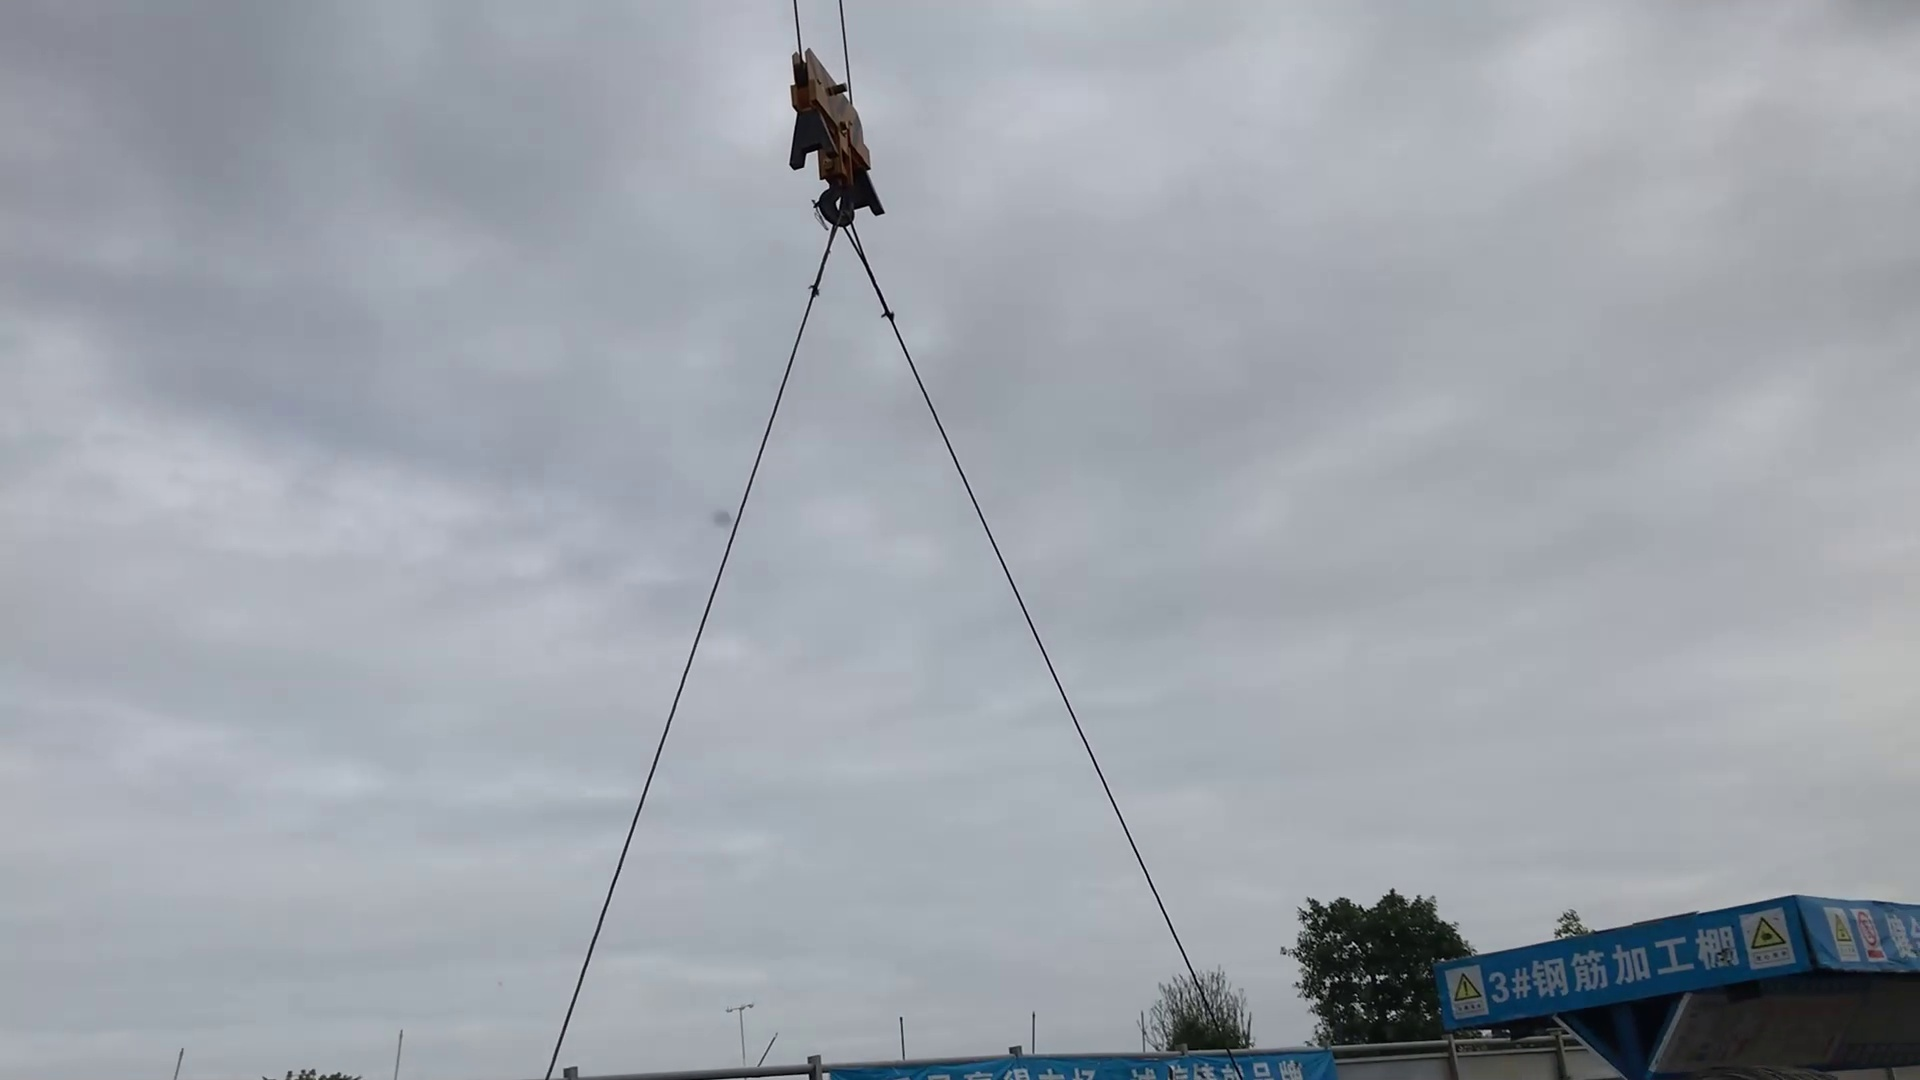hook: (779, 40, 891, 239)
slogan: (819, 1048, 1332, 1080)
